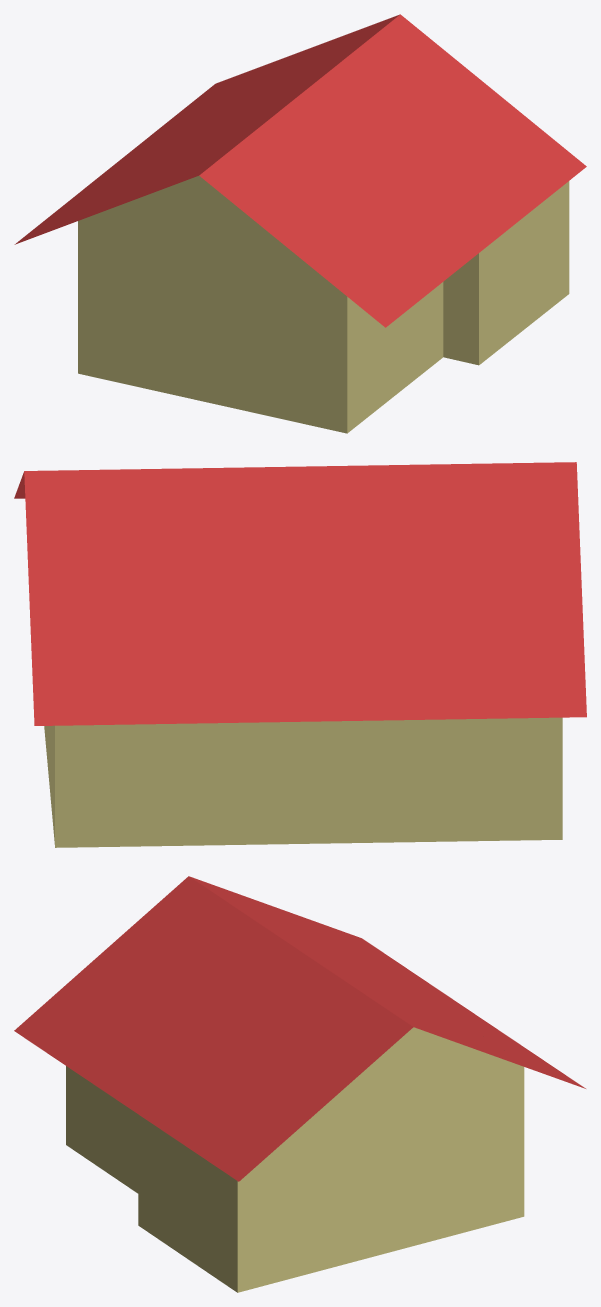
3 views of the same model, one above another, from view 1: azimuth 30°, elevation 25°; view 2: azimuth 150°, elevation 25°; view 3: azimuth 270°, elevation 25° (orthographic). The views are drawn at different scales.
Size of the model in its own units: 33.61 by 33.41 by 14.67.
